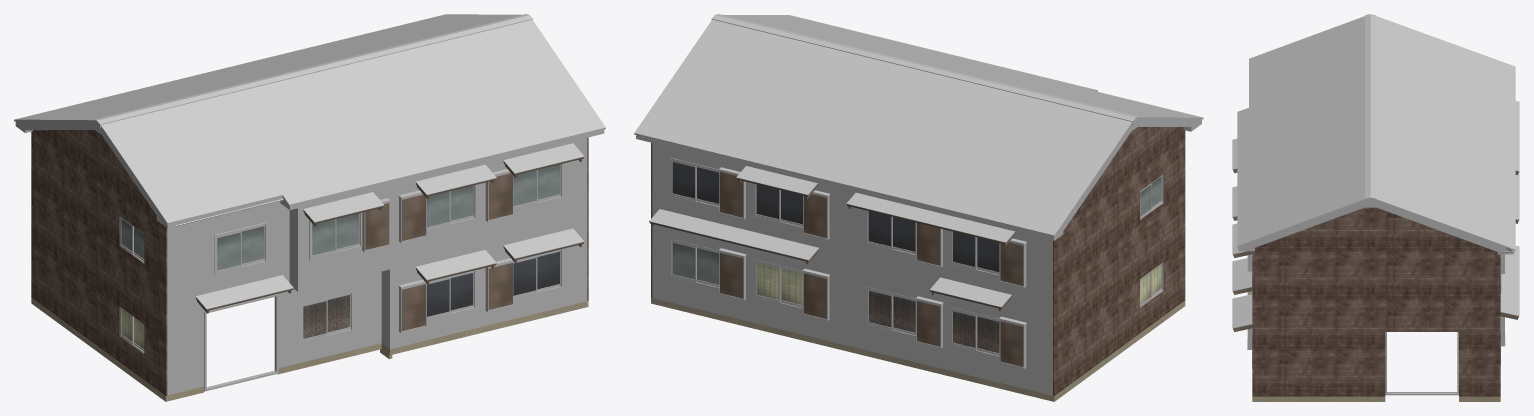
Rendered from JpHouse_04a.fbx.
3 renders of one model, left to right at view 1: azimuth 30°, elevation 25°; view 2: azimuth 150°, elevation 25°; view 3: azimuth 270°, elevation 25°, orthographic. The views are drawn at different scales.
Visible parts, largest first — view 1: JpHouse_04a; view 2: JpHouse_04a; view 3: JpHouse_04a.
Part boxes in pixels (bbox=[...]): JpHouse_04a: bbox=[14, 14, 605, 401]; JpHouse_04a: bbox=[634, 14, 1203, 401]; JpHouse_04a: bbox=[1232, 14, 1519, 401].
Bounding box in the file's own units: 15.04 × 8.11 × 9.94.
